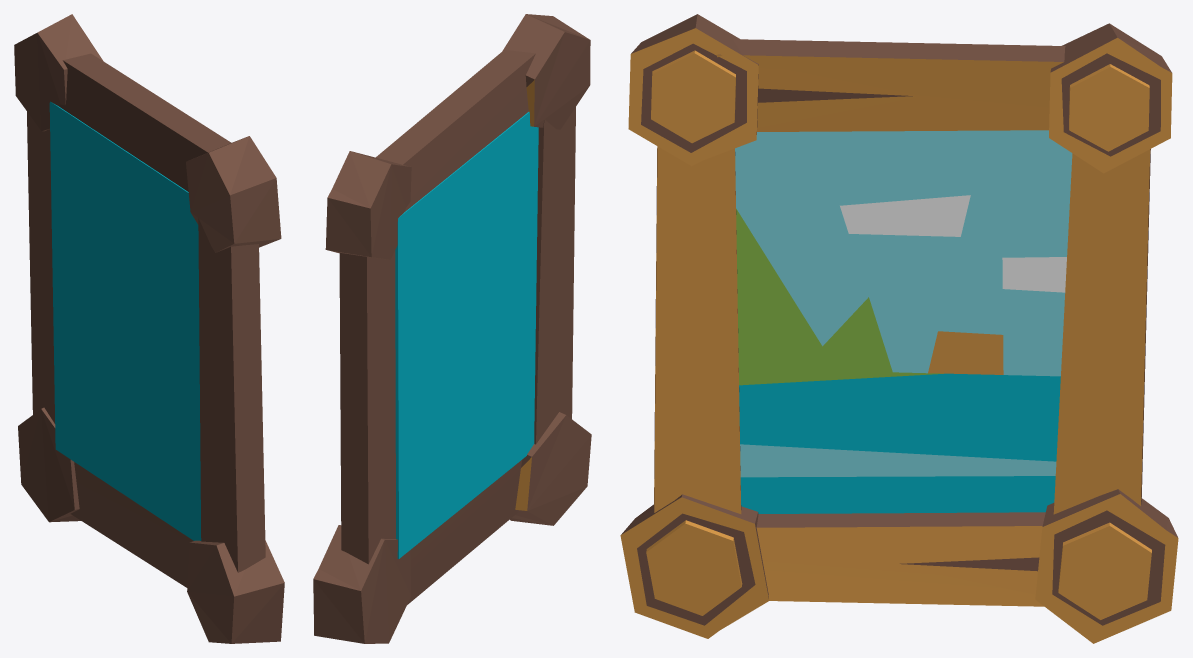
3 views of the same model, side by side, from view 1: azimuth 30°, elevation 25°; view 2: azimuth 150°, elevation 25°; view 3: azimuth 270°, elevation 25° (orthographic). The views are drawn at different scales.
Visible parts, largest first — view 1: Painting; view 2: Painting; view 3: Painting.
Boxes of the visible parts, <box> form: Painting: <box>14,14,284,643</box>; Painting: <box>313,14,591,643</box>; Painting: <box>620,14,1178,643</box>.
Bounding box in the file's own units: 0.1158 × 0.9046 × 0.7531.
Materials: 1 (1 with a texture image).
